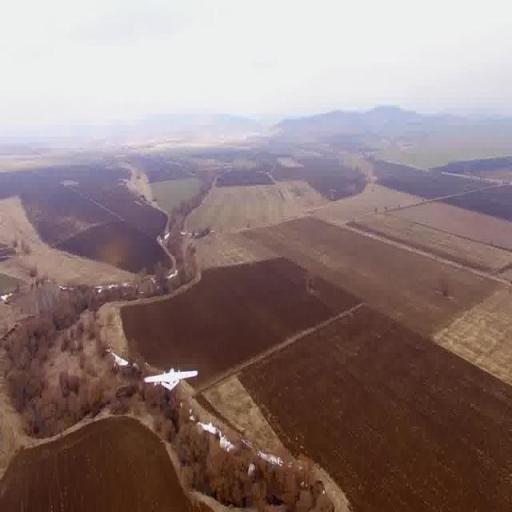uav: (144, 358, 200, 396)
